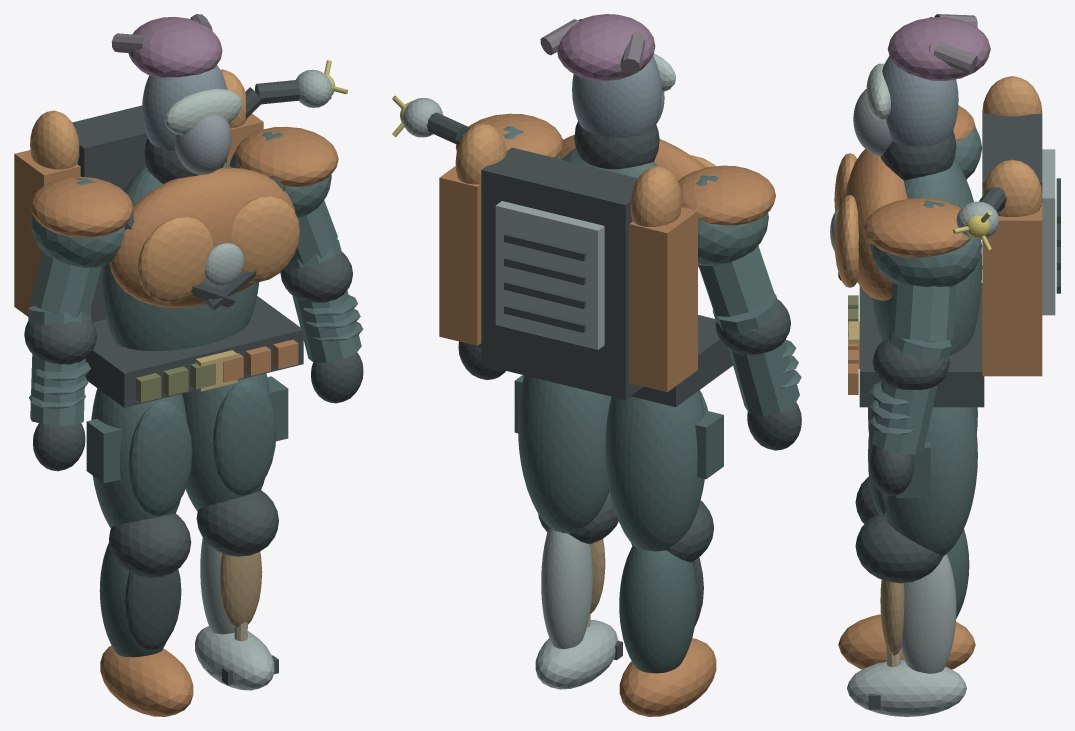
File: trandor_prosthesis_device.glb
3 views of the same model, side by side, from view 1: azimuth 30°, elevation 25°; view 2: azimuth 150°, elevation 25°; view 3: azimuth 270°, elevation 25° (orthographic). The views are drawn at different scales.
Visible parts, largest first — view 1: upper_armour, torso_suit, belt, thigh_panel_-1, thigh_panel_1, backpack_main, chest_plate_-1, shoulder_cap_-1, boot_-1, shoulder_cap_1, crest, chest_plate_1 (+41 smaller); view 2: backpack_main, thigh_-1, thigh_1, backpack_side_-1, backpack_panel, shin_-1, backpack_side_1, shin_1, head, upper_arm_-1, shoulder_cap_-1, crest (+24 smaller); view 3: backpack_side_1, thigh_1, shin_1, boot_1, belt, shoulder_cap_1, head, upper_arm_1, crest, torso_suit, upper_armour, knee_1 (+26 smaller).
Part boxes in pixels (x1=…): upper_armour: x1=109, y1=167, x2=295, y2=307; torso_suit: x1=101, y1=162, x2=259, y2=350; belt: x1=85, y1=296, x2=303, y2=407; thigh_panel_-1: x1=128, y1=401, x2=192, y2=516; thigh_panel_1: x1=212, y1=381, x2=276, y2=495; backpack_main: x1=72, y1=105, x2=147, y2=322; chest_plate_-1: x1=137, y1=217, x2=213, y2=303; shoulder_cap_-1: x1=30, y1=176, x2=133, y2=237; boot_-1: x1=100, y1=645, x2=193, y2=716; shoulder_cap_1: x1=235, y1=126, x2=338, y2=186; crest: x1=128, y1=16, x2=222, y2=77; chest_plate_1: x1=230, y1=196, x2=299, y2=282; backpack_main: x1=481, y1=147, x2=643, y2=399; thigh_-1: x1=605, y1=390, x2=704, y2=551; thigh_1: x1=518, y1=375, x2=611, y2=533; backpack_side_-1: x1=629, y1=207, x2=697, y2=392; backpack_panel: x1=495, y1=201, x2=604, y2=349; shin_-1: x1=619, y1=545, x2=697, y2=673; backpack_side_1: x1=439, y1=166, x2=481, y2=345; shin_1: x1=541, y1=528, x2=592, y2=648; head: x1=572, y1=56, x2=661, y2=137; upper_arm_-1: x1=698, y1=245, x2=779, y2=333; shoulder_cap_-1: x1=678, y1=165, x2=775, y2=225; crest: x1=557, y1=14, x2=655, y2=81; backpack_side_1: x1=982, y1=202, x2=1042, y2=376; thigh_1: x1=884, y1=407, x2=977, y2=556; shin_1: x1=901, y1=554, x2=956, y2=673; boot_1: x1=847, y1=659, x2=966, y2=716; belt: x1=859, y1=283, x2=984, y2=407; shoulder_cap_1: x1=864, y1=198, x2=970, y2=257; head: x1=882, y1=56, x2=958, y2=146; upper_arm_1: x1=888, y1=282, x2=956, y2=362; crest: x1=887, y1=17, x2=990, y2=80; torso_suit: x1=872, y1=159, x2=982, y2=355; upper_armour: x1=844, y1=149, x2=907, y2=300; knee_1: x1=855, y1=514, x2=943, y2=583.
Size of the model in its own units: 0.9443 by 1.73 by 0.537.
